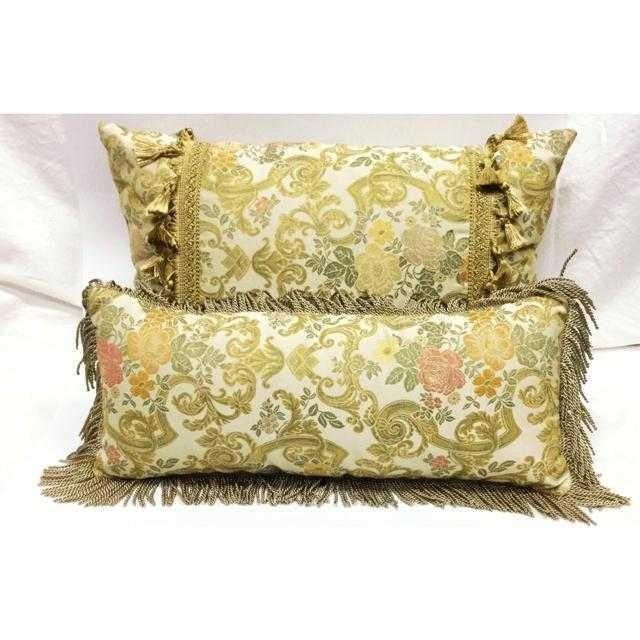pillow: (79, 274, 574, 492), (95, 114, 579, 314)
